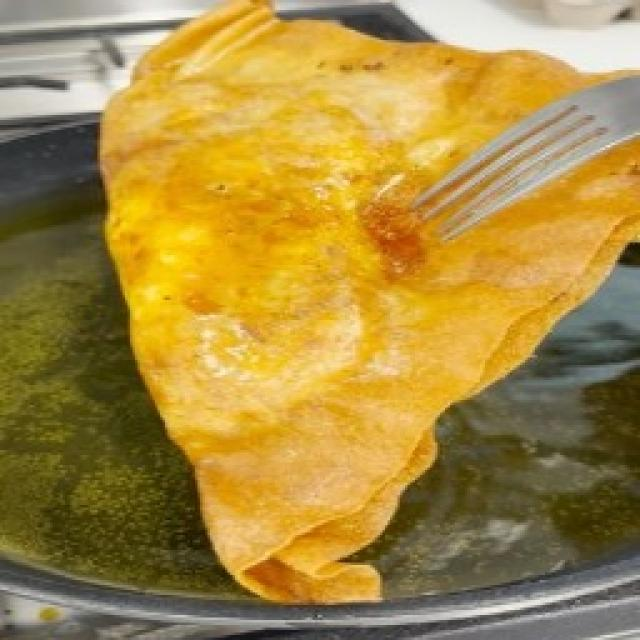Brik: (98, 0, 640, 605)
